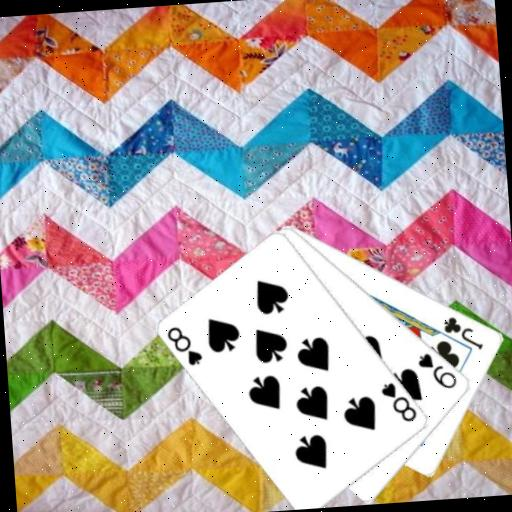8S: (378, 378, 420, 426), (163, 322, 205, 370)
9S: (415, 347, 460, 392)
JC: (440, 312, 486, 354)
